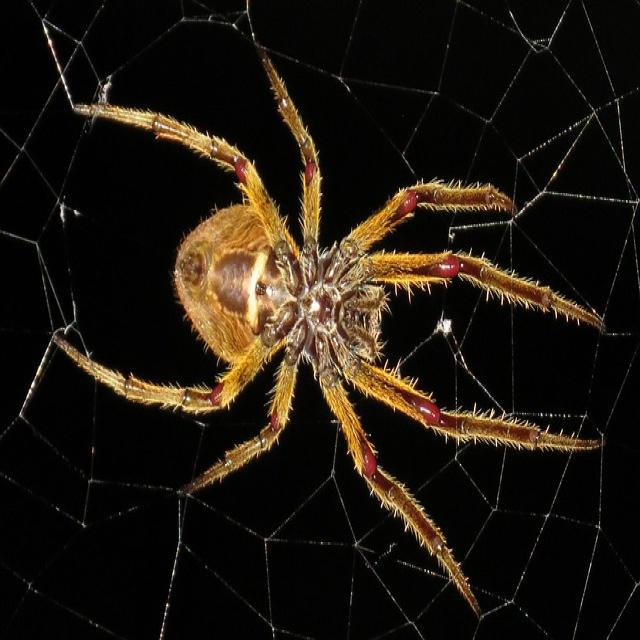spyder: (54, 33, 601, 617)
